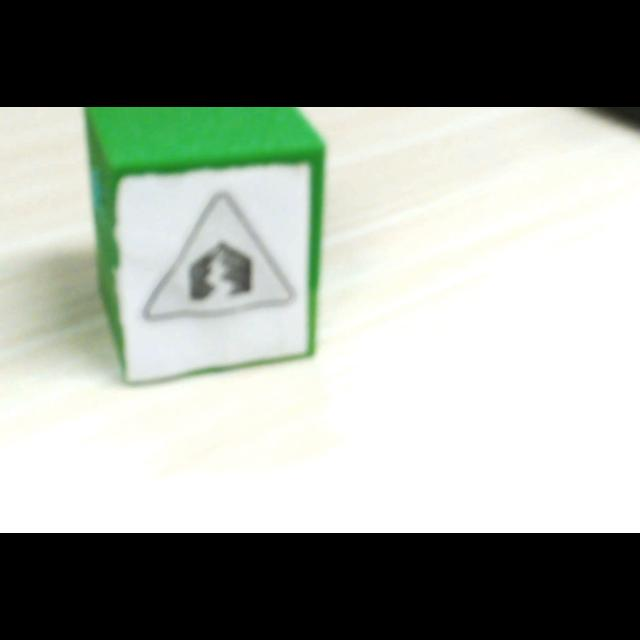Earthquake: (141, 191, 297, 325), (141, 192, 295, 322)
